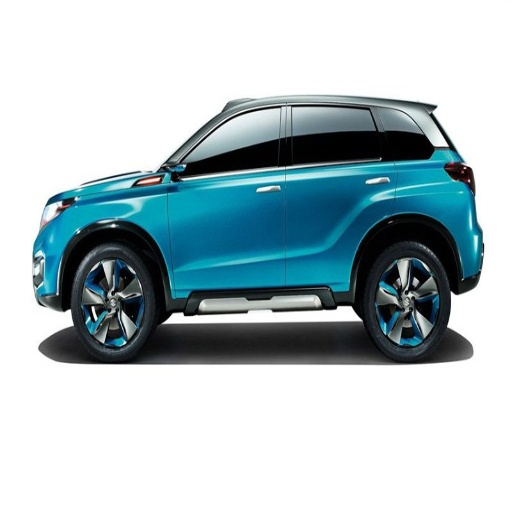back_left_door: (286, 103, 394, 280)
front_left_door: (168, 104, 287, 289)
